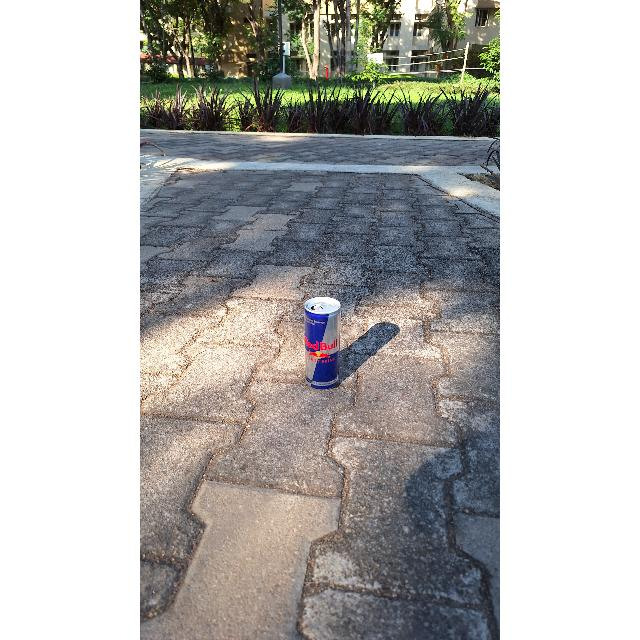Redbull: (304, 298, 340, 390)
